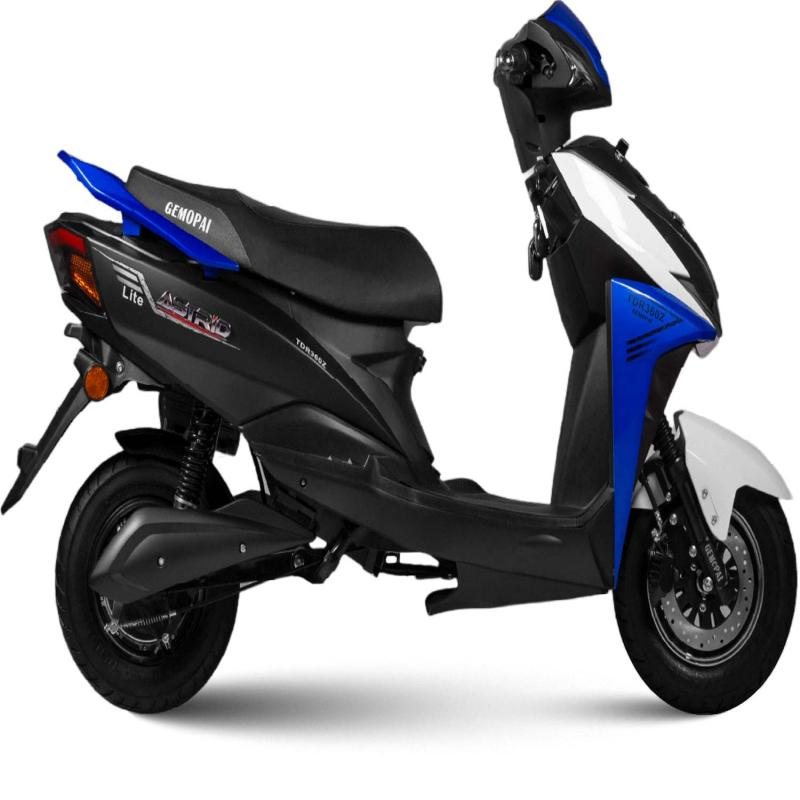bike: (18, 2, 794, 765)
